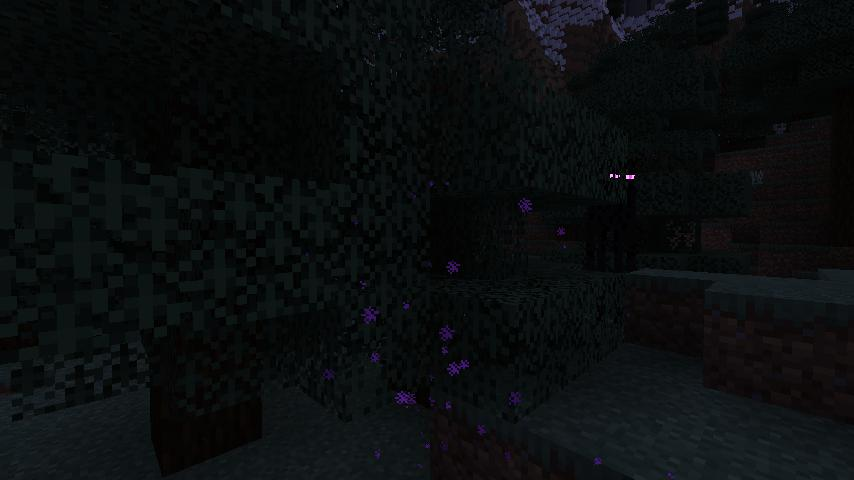enderman: (584, 155, 639, 283)
